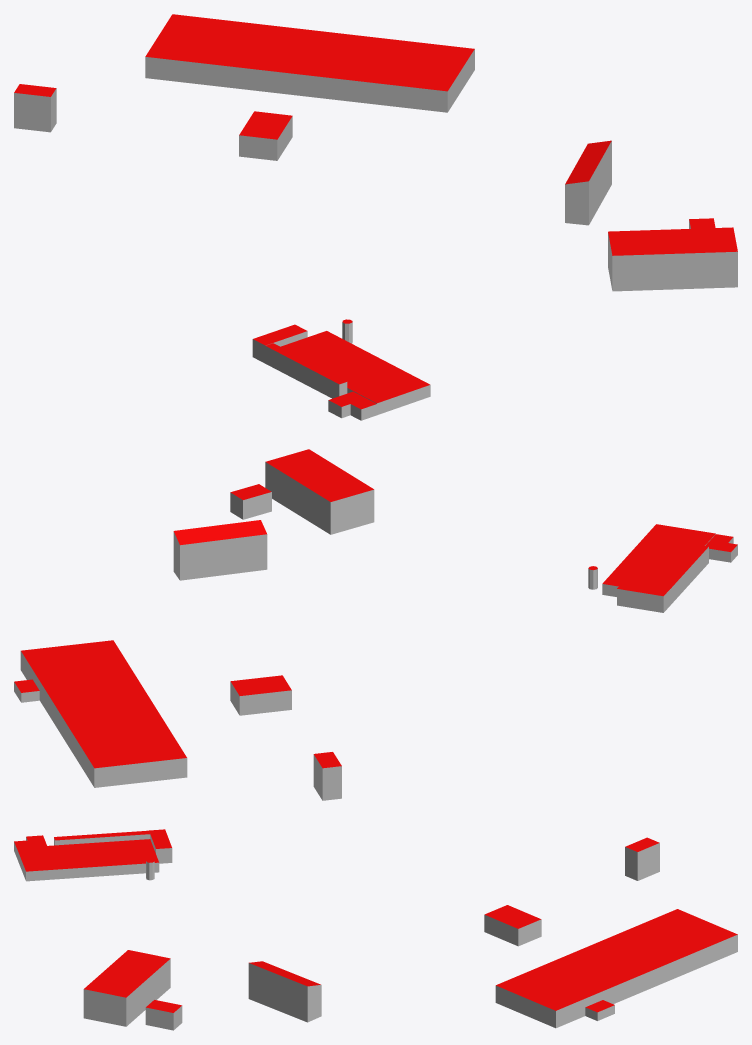
3 renders of one model, top to bottom at view 1: azimuth 30°, elevation 25°; view 2: azimuth 150°, elevation 25°; view 3: azimuth 270°, elevation 25°, orthographic. The views are drawn at different scales.
Size of the model in its own units: 137 by 12.42 by 225.
